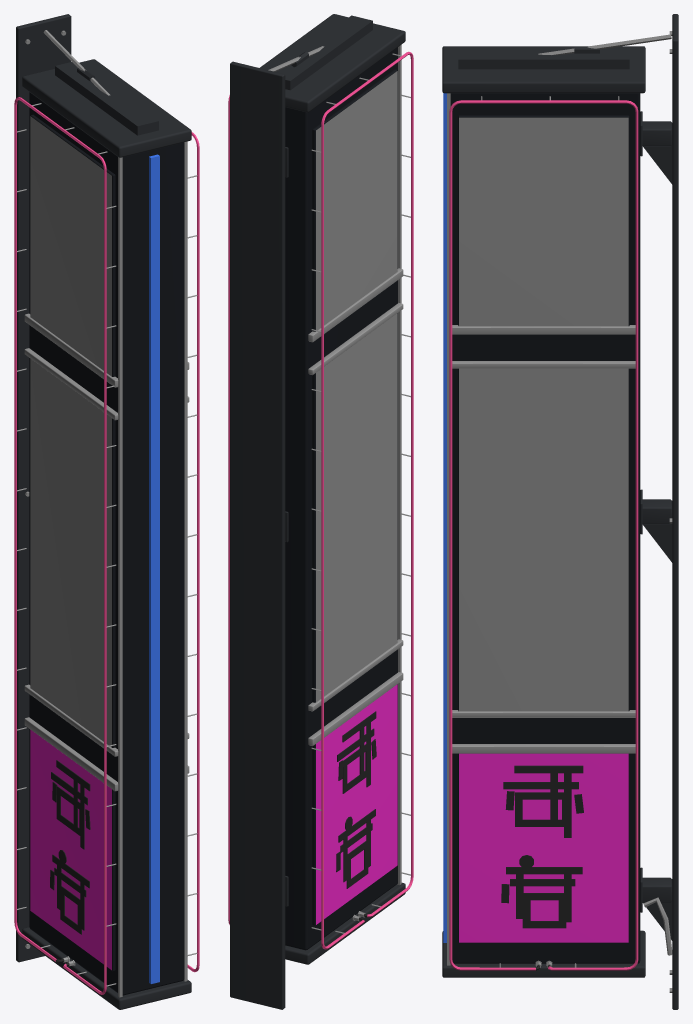
File: Sign_Blade_C.fbx
3 views of the same model, side by side, from view 1: azimuth 30°, elevation 25°; view 2: azimuth 150°, elevation 25°; view 3: azimuth 270°, elevation 25° (orthographic). The views are drawn at different scales.
Parts seen in each view (by area): view 1: Sign_Blade_C_LOD0; view 2: Sign_Blade_C_LOD0; view 3: Sign_Blade_C_LOD0.
Part boxes in pixels (x1,y1,x2,y2): Sign_Blade_C_LOD0: [14, 14, 199, 1009]; Sign_Blade_C_LOD0: [228, 14, 413, 1009]; Sign_Blade_C_LOD0: [442, 14, 678, 1009].
Size of what is drawn, in the model's own units: 0.535 by 5 by 1.11.
